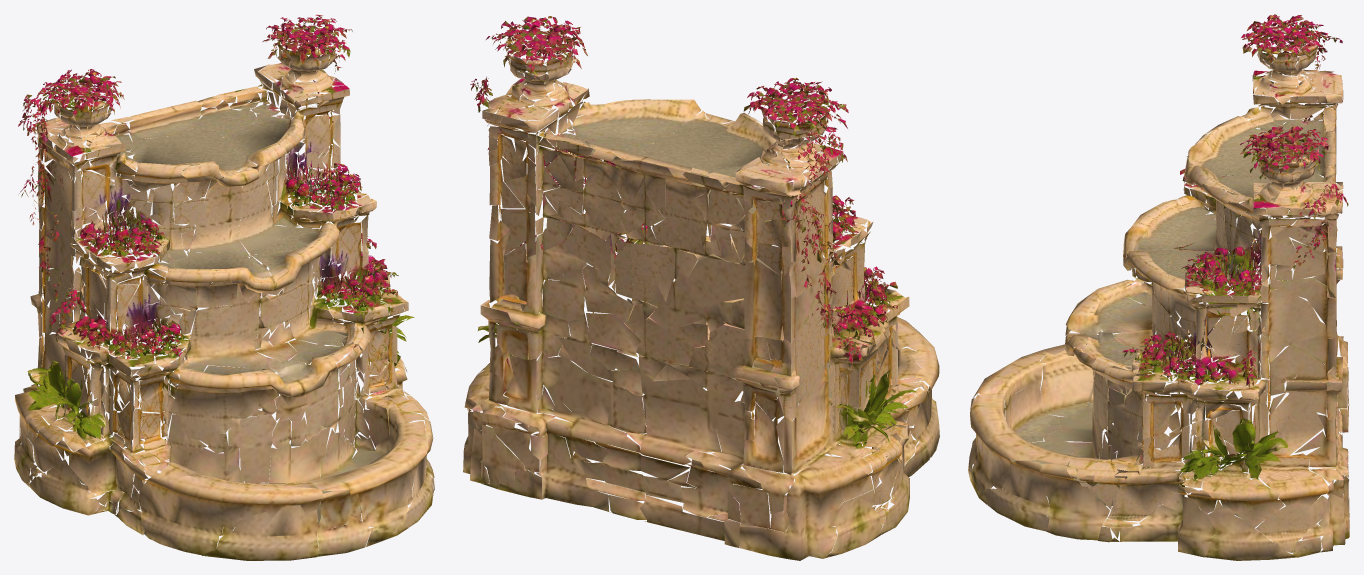
File: cascada.glb
The picture shows the model from 3 angles, left to right: view 1: azimuth 30°, elevation 25°; view 2: azimuth 150°, elevation 25°; view 3: azimuth 270°, elevation 25°; orthographic projection. The views are drawn at different scales.
Parts seen in each view (by area): view 1: Mesh_0; view 2: Mesh_0; view 3: Mesh_0.
Part boxes in pixels (box(x1,y1,x2,y2)): Mesh_0: box(14, 14, 434, 560); Mesh_0: box(463, 16, 939, 560); Mesh_0: box(968, 14, 1349, 560).
Bounding box in the file's own units: 1.86 × 1.9 × 1.66.
1 material, 1 textured.
